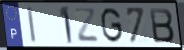1: (58, 5, 74, 45)
7: (126, 7, 147, 45)
B: (148, 8, 176, 45)
G: (100, 6, 125, 44)
I: (26, 6, 38, 45)
Z: (72, 7, 100, 44)
